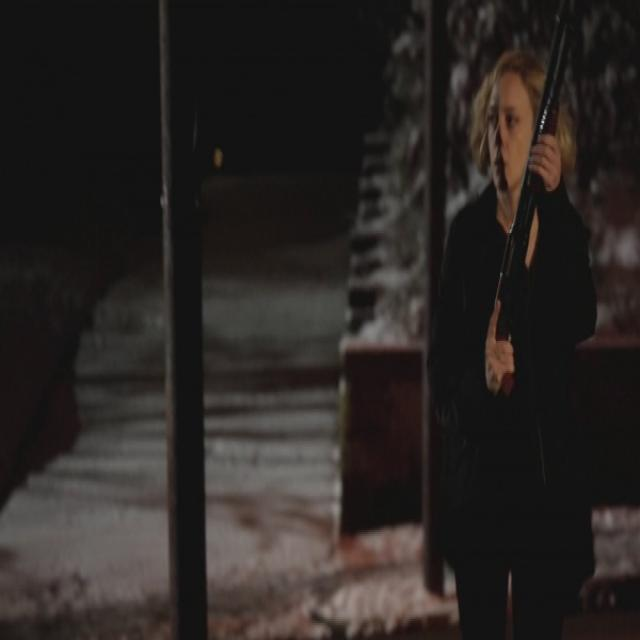rifle: (495, 9, 574, 400)
